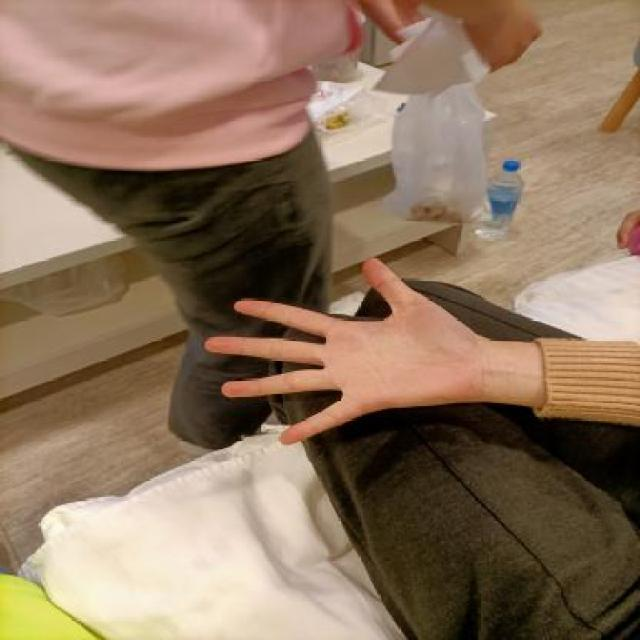bare_hand: (200, 241, 522, 456)
